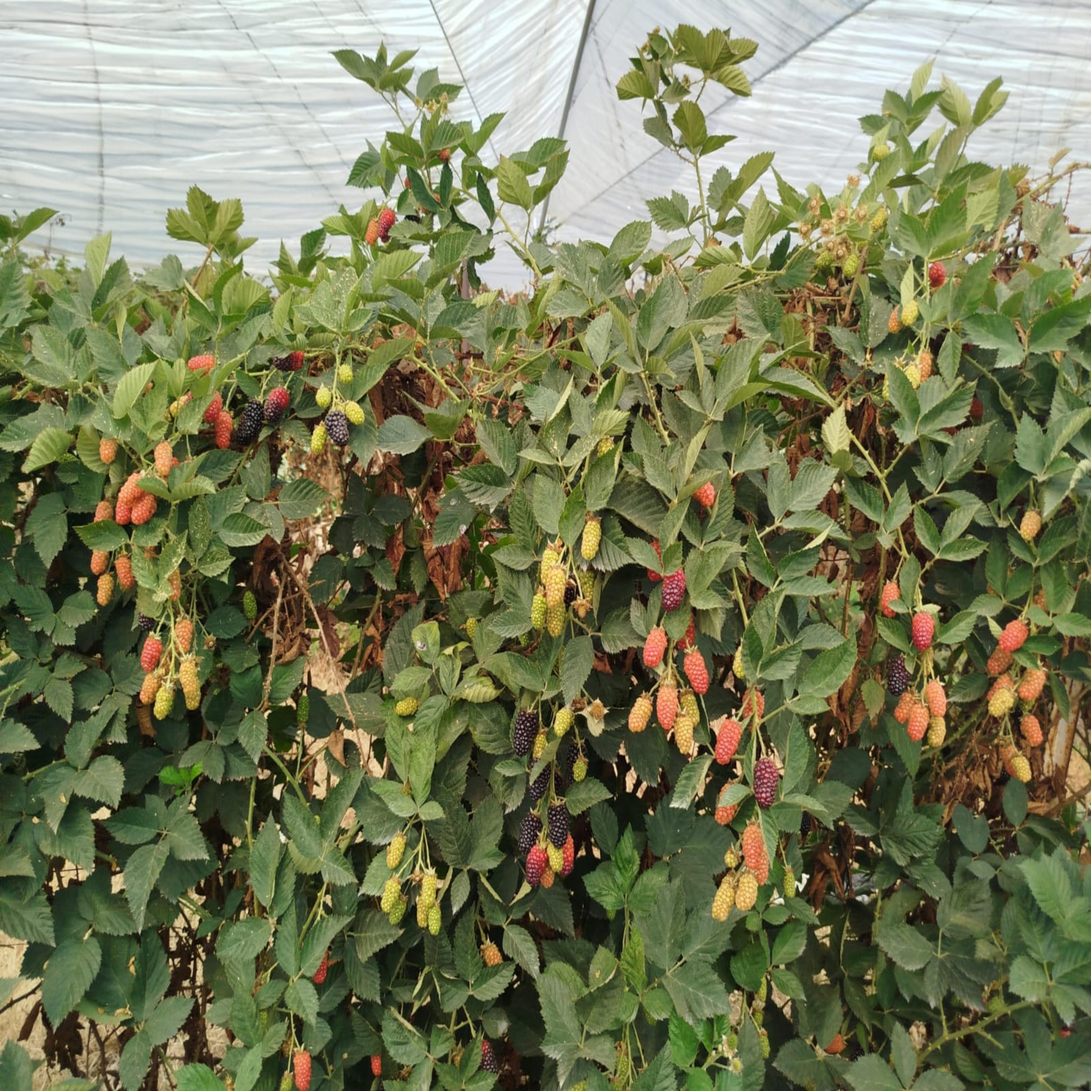maduro: (235, 399, 263, 444), (513, 709, 539, 756), (517, 810, 541, 853), (548, 802, 569, 848), (325, 410, 349, 448), (887, 655, 909, 696), (529, 767, 550, 803), (567, 741, 580, 778), (137, 612, 155, 633)
marron: (663, 568, 686, 611), (264, 386, 289, 424), (526, 844, 548, 886), (271, 350, 305, 373), (481, 1038, 499, 1074), (561, 833, 575, 876), (378, 208, 396, 241)
naranja: (742, 820, 769, 885), (714, 718, 742, 764), (683, 647, 709, 695), (656, 680, 678, 731), (1017, 668, 1046, 703), (643, 626, 667, 667), (923, 678, 947, 718), (999, 620, 1028, 652), (912, 611, 935, 650), (907, 701, 928, 742), (117, 474, 146, 503), (140, 635, 163, 671), (132, 493, 157, 525), (154, 441, 174, 480), (740, 687, 764, 719), (880, 580, 900, 618), (1020, 713, 1043, 746), (115, 554, 136, 590), (987, 646, 1012, 676), (293, 1050, 311, 1091), (140, 671, 161, 705), (215, 410, 233, 449), (175, 617, 194, 653), (893, 690, 913, 724), (989, 672, 1014, 698), (647, 539, 662, 582), (203, 391, 222, 424), (693, 481, 716, 508), (480, 940, 503, 967), (96, 573, 114, 606), (999, 742, 1016, 776), (679, 614, 695, 649), (99, 437, 118, 465), (187, 354, 215, 373), (928, 261, 946, 289), (824, 1031, 845, 1055), (313, 952, 328, 985), (93, 499, 114, 522), (918, 349, 933, 380), (115, 499, 132, 526), (91, 550, 108, 575), (714, 805, 735, 825), (168, 569, 181, 600), (365, 218, 379, 246), (888, 307, 902, 334), (540, 866, 555, 889), (371, 1054, 382, 1076), (438, 148, 451, 163)
verde: (711, 872, 737, 921), (178, 656, 200, 710), (674, 713, 696, 759), (628, 693, 652, 733), (545, 563, 567, 606), (735, 870, 758, 911), (581, 514, 601, 561), (1019, 508, 1042, 543), (988, 689, 1015, 718), (381, 875, 400, 914), (154, 683, 174, 720), (386, 833, 406, 870), (540, 548, 560, 584), (546, 602, 566, 637), (420, 870, 437, 909), (553, 706, 574, 737), (681, 690, 699, 725), (927, 716, 946, 748), (169, 392, 192, 418), (530, 594, 547, 629), (1012, 752, 1031, 783), (388, 896, 408, 925), (310, 422, 327, 454), (531, 728, 548, 760), (578, 569, 595, 600), (344, 401, 365, 425), (417, 888, 429, 930), (901, 300, 919, 326), (782, 864, 796, 897), (395, 697, 418, 717), (842, 252, 859, 279), (547, 842, 562, 872), (243, 590, 257, 622), (427, 904, 441, 936), (297, 693, 310, 727), (572, 756, 587, 783), (905, 364, 921, 389), (871, 208, 887, 232), (815, 251, 832, 272), (597, 436, 614, 456), (316, 387, 332, 408), (338, 363, 353, 385), (724, 848, 739, 869), (873, 143, 890, 161), (278, 1072, 293, 1091), (465, 617, 477, 640)
